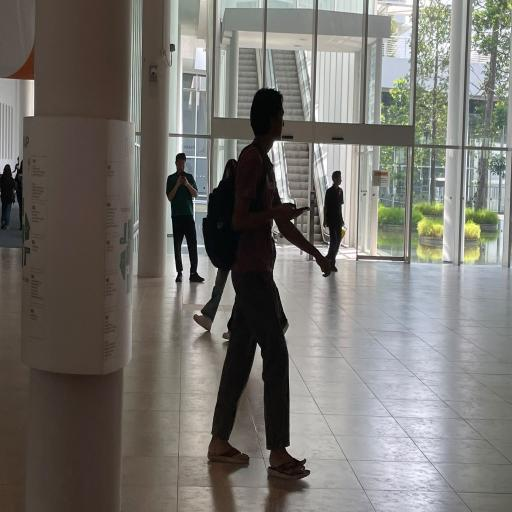person_right: (211, 84, 311, 494), (320, 164, 348, 276)
